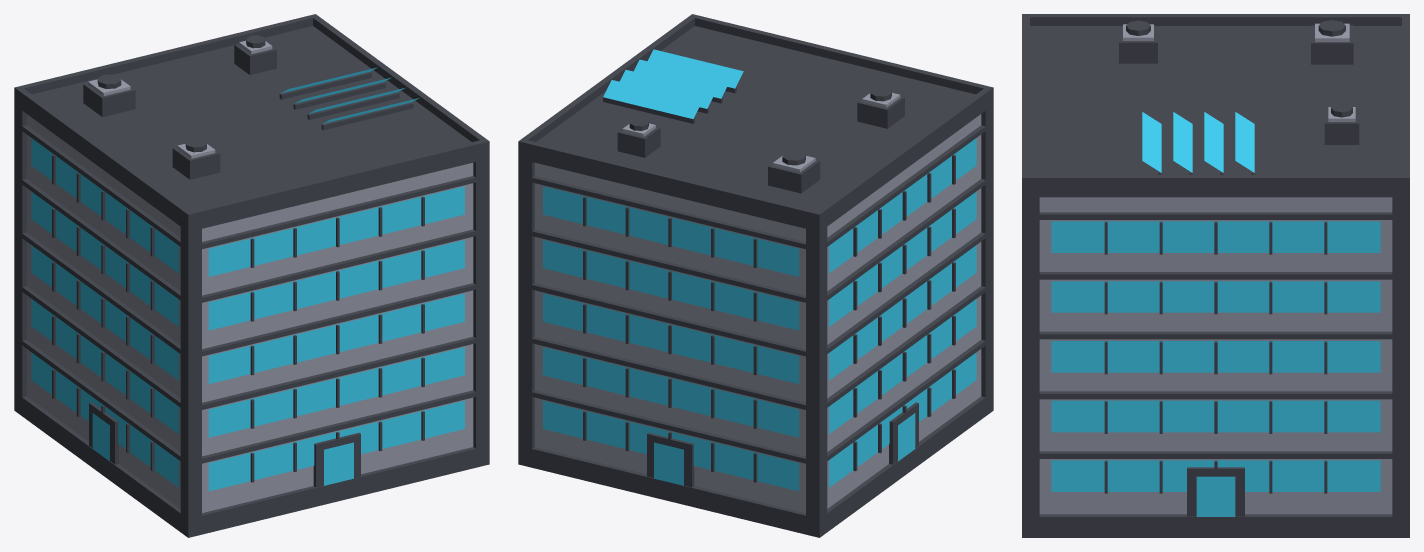
Rendered from building_slab.glb.
3 renders of one model, left to right at view 1: azimuth 30°, elevation 25°; view 2: azimuth 150°, elevation 25°; view 3: azimuth 270°, elevation 25°, orthographic. The views are drawn at different scales.
Visible parts, largest first — view 1: building_slab; view 2: building_slab; view 3: building_slab.
Part boxes in pixels (x1,y1,x2,y2): building_slab: (14,14,489,537); building_slab: (518,14,993,537); building_slab: (1022,14,1409,537).
Size of the model in its own units: 1 by 1.08 by 1.
